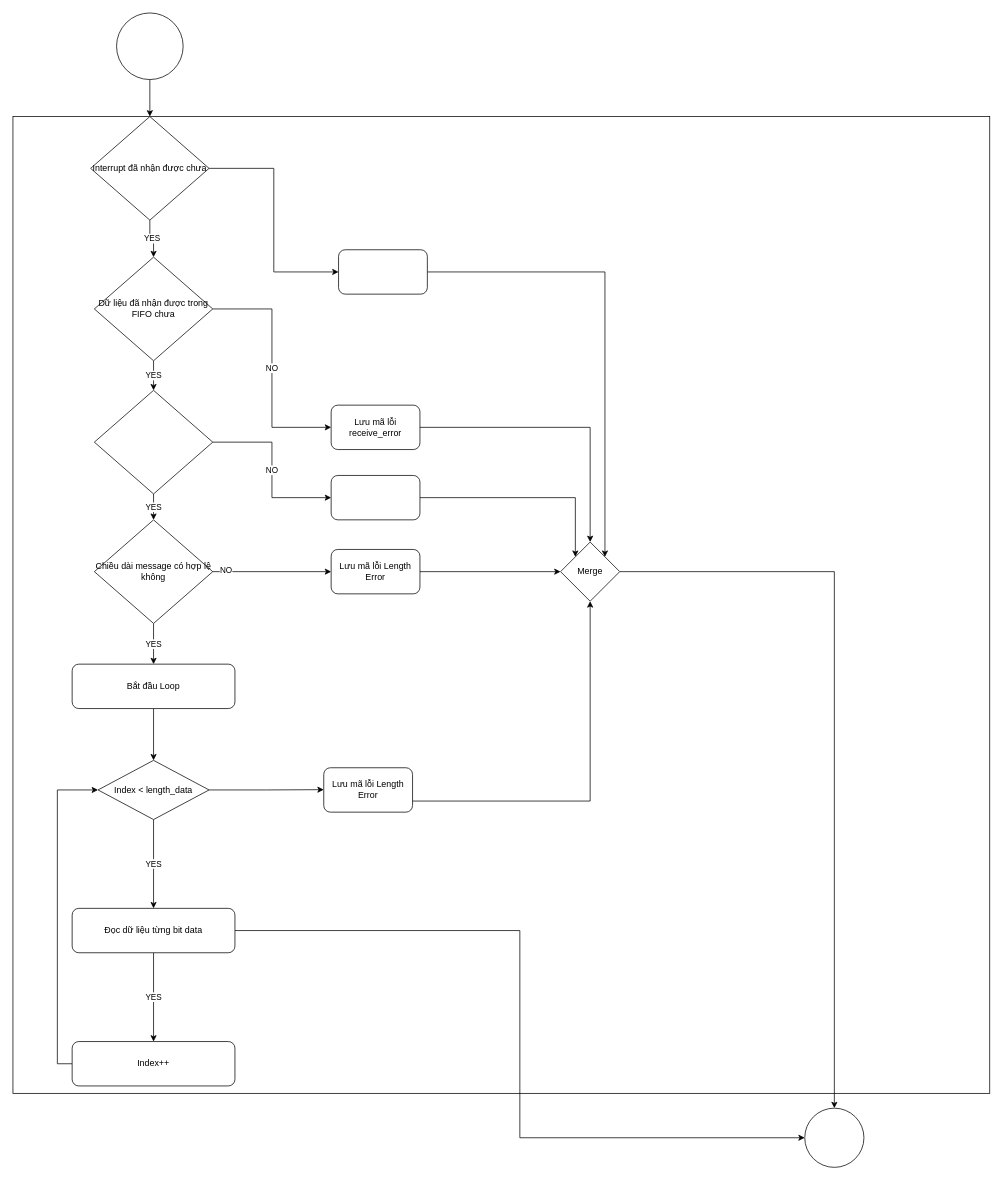
This 1003x1180 diagram has some shape labels left out. The shapes that lost their labels are listed below. From the top down, each one's box as (x1, y1, x2, y2) in pixels, then its label:
(116, 12, 183, 80): ENTRY
(338, 249, 427, 294): Lưu mã lỗi Interrupt_error
(94, 390, 213, 494): Dữ liệu nhận được đã hợp lệ chưa
(330, 475, 420, 520): Lưu mã lỗi Invalid id
(804, 1107, 864, 1167): OUT
